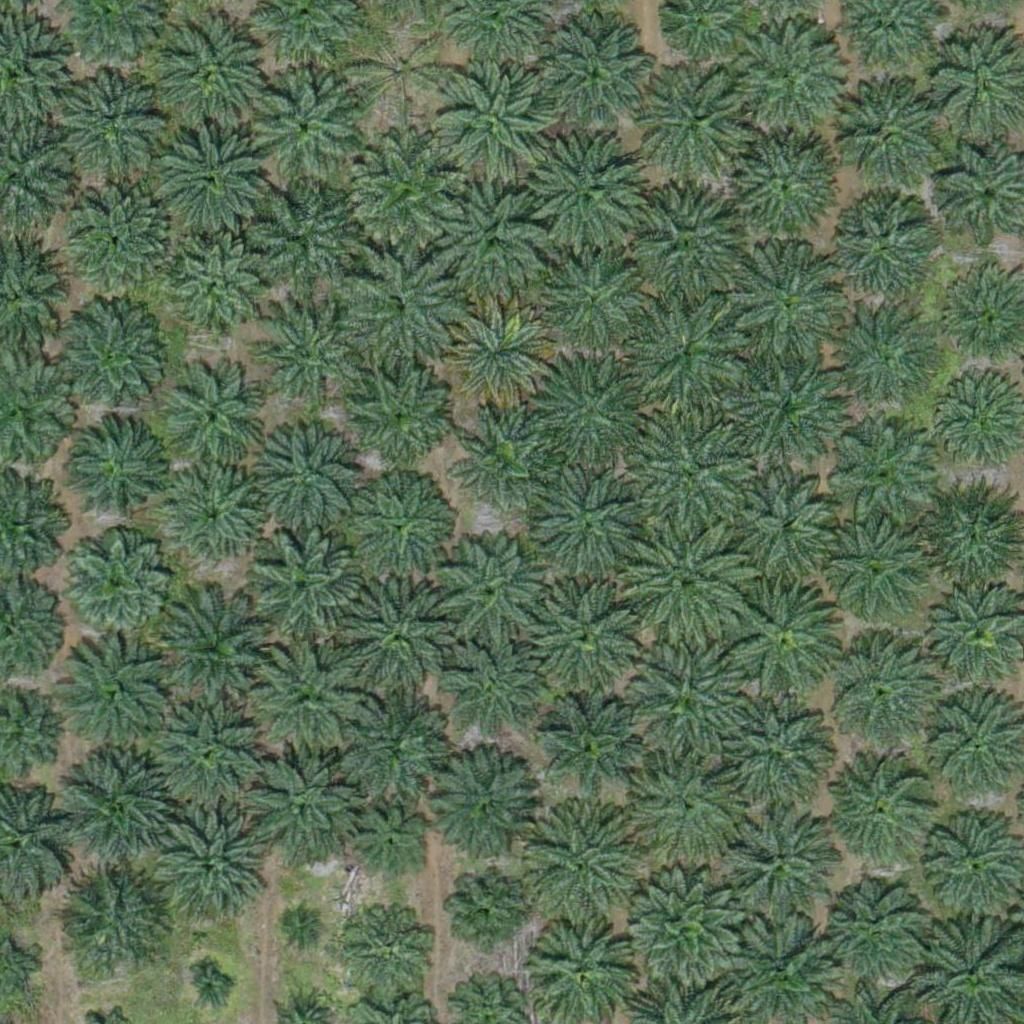Kelapa_Sawit: (156, 588, 281, 714), (623, 293, 748, 419), (629, 412, 754, 538), (623, 515, 748, 640), (151, 696, 264, 810), (61, 641, 174, 755), (734, 130, 847, 244), (640, 64, 753, 178), (726, 245, 839, 359), (539, 17, 652, 131), (59, 526, 172, 640), (822, 634, 935, 747), (731, 584, 844, 697), (721, 689, 834, 802), (718, 807, 831, 920), (424, 753, 537, 866), (342, 581, 455, 694), (328, 682, 441, 795), (149, 805, 262, 918), (62, 747, 175, 860), (53, 862, 166, 975), (817, 511, 930, 624), (731, 470, 844, 583), (733, 351, 846, 464), (626, 189, 739, 302), (527, 134, 640, 247), (244, 182, 357, 295), (252, 74, 365, 187), (348, 135, 461, 248), (442, 300, 555, 413), (439, 533, 552, 646), (344, 253, 457, 366), (340, 358, 453, 471), (53, 303, 166, 416), (242, 742, 354, 856), (823, 412, 935, 526), (630, 638, 742, 751), (628, 747, 740, 860), (626, 866, 738, 979), (524, 803, 636, 916), (253, 640, 365, 753), (829, 82, 941, 195), (732, 21, 844, 134), (539, 244, 651, 357), (529, 353, 641, 466), (529, 464, 641, 577), (528, 576, 640, 689), (160, 13, 272, 126), (156, 120, 268, 233), (435, 184, 547, 297), (436, 62, 548, 175), (252, 298, 364, 411), (248, 530, 360, 643), (351, 22, 451, 123), (835, 753, 935, 854), (826, 877, 926, 978), (538, 700, 638, 801), (71, 186, 171, 287), (67, 72, 167, 173), (168, 240, 268, 341), (350, 478, 450, 579), (257, 423, 357, 524), (165, 372, 265, 473), (831, 195, 931, 295), (837, 306, 937, 406), (166, 465, 266, 565), (70, 419, 170, 519), (342, 903, 430, 991), (460, 415, 547, 504), (447, 647, 534, 735), (450, 873, 525, 949), (348, 806, 423, 882), (287, 907, 325, 945), (192, 969, 229, 1007)
